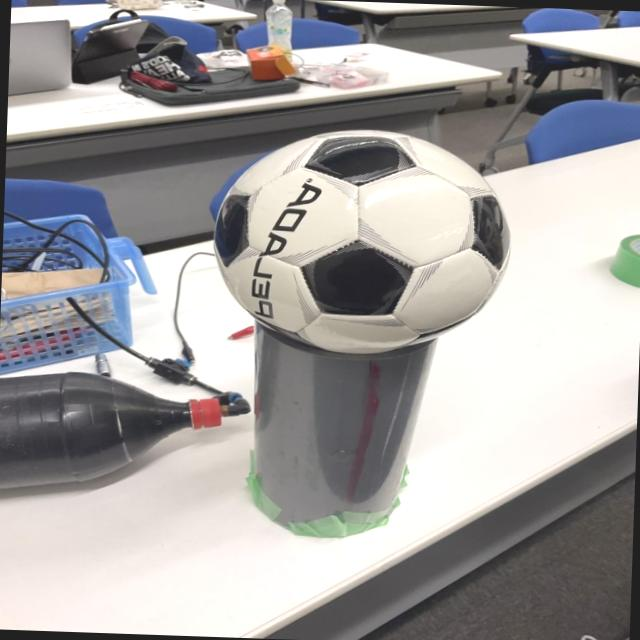Soccer Ball: (208, 123, 514, 360)
